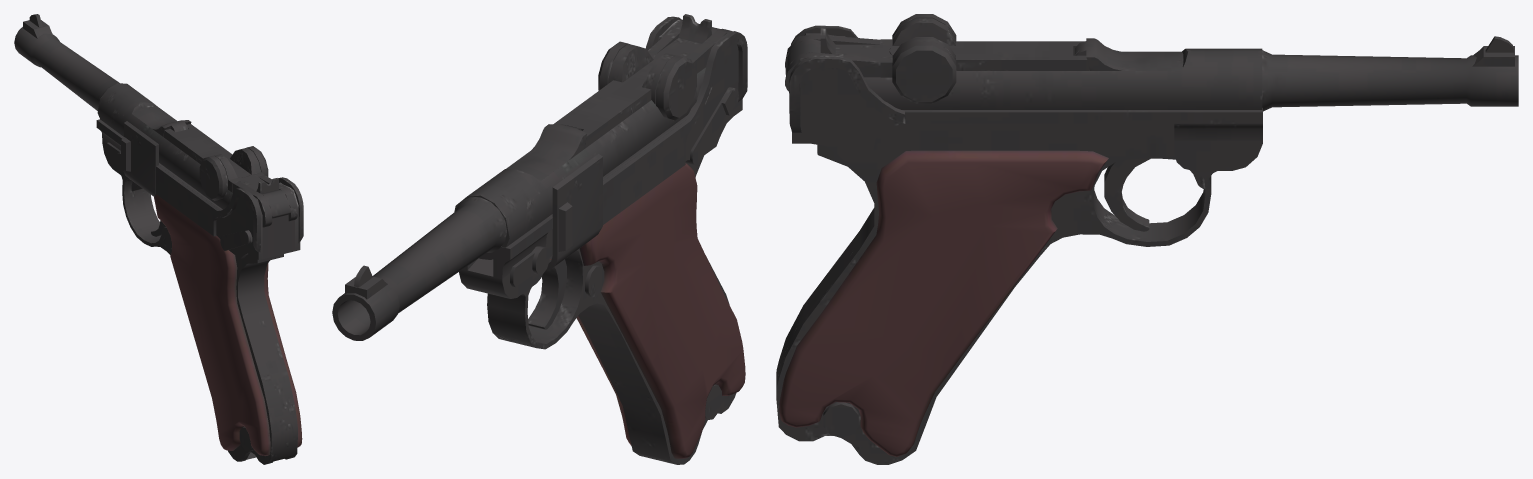
The model's file is Luger.glb.
The picture shows the model from 3 angles, left to right: view 1: azimuth 30°, elevation 25°; view 2: azimuth 150°, elevation 25°; view 3: azimuth 270°, elevation 25°; orthographic projection. The views are drawn at different scales.
Visible parts, largest first — view 1: Body; view 2: Body; view 3: Body.
Part boxes in pixels (bbox=[...]): Body: bbox=[14, 14, 303, 464]; Body: bbox=[332, 14, 747, 464]; Body: bbox=[776, 14, 1518, 464].
Size of the model in its own units: 0.0282 by 0.1503 by 0.2375.
1 material, 1 textured.
